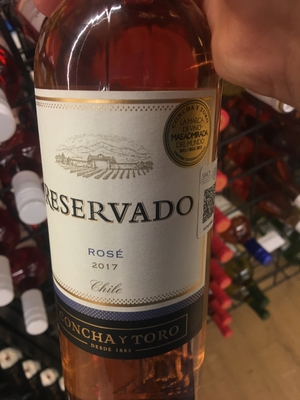reservado rose: (36, 18, 217, 400)
